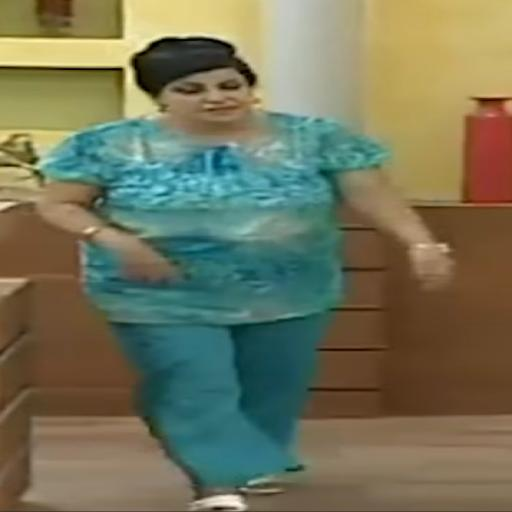jannet: (131, 37, 266, 137)
